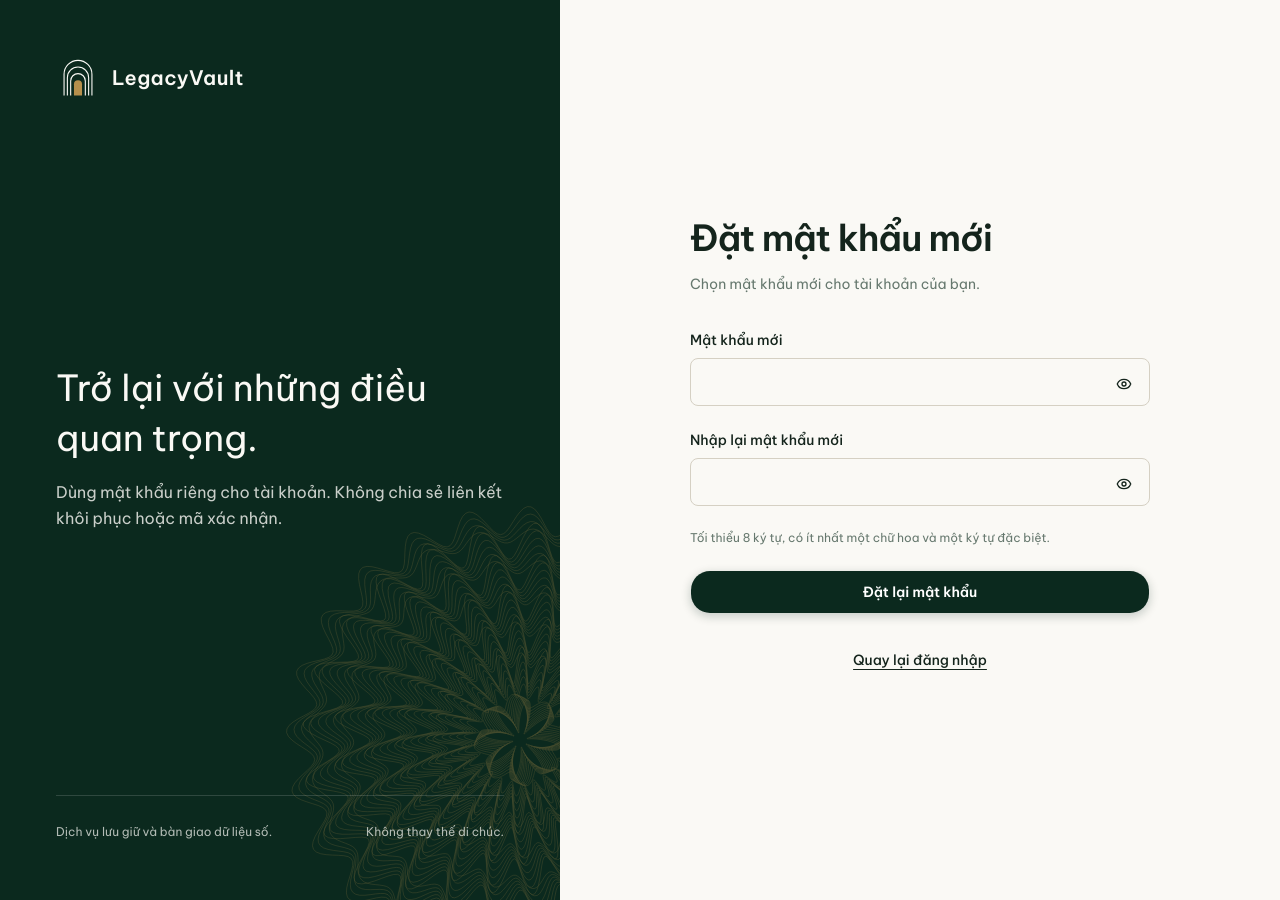
Test: maps reset DTO only on submit, waits for 204, clears session/cache and removes token
Type "Abcdefg!" into the password field labelled "Mật khẩu mới".
click(920, 382); type("Abcdefg!")  # box left=690, top=358, right=1150, bottom=406
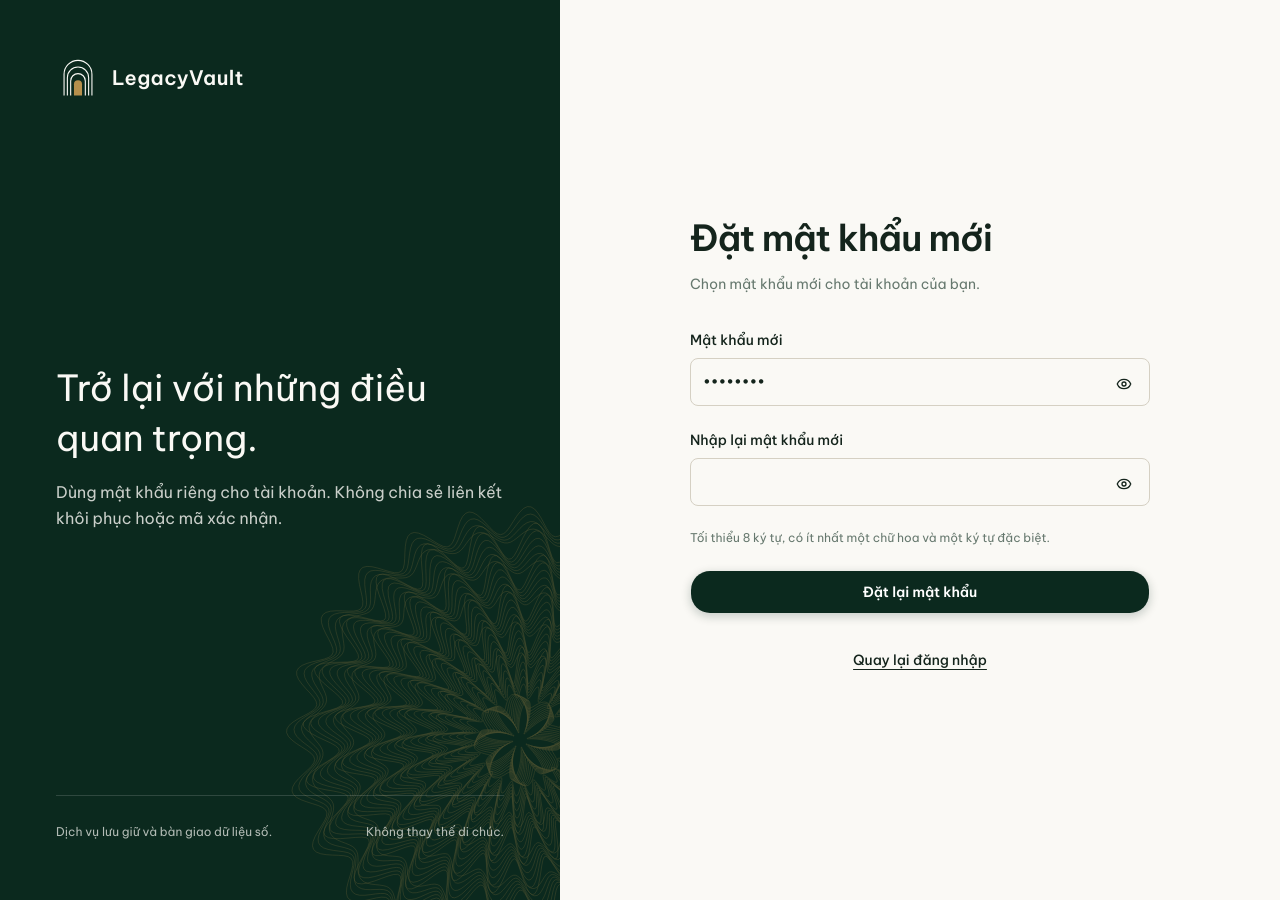
Type "Abcdefg!" into the password field labelled "Nhập lại mật khẩu mới".
click(920, 482); type("Abcdefg!")  # box left=690, top=458, right=1150, bottom=506
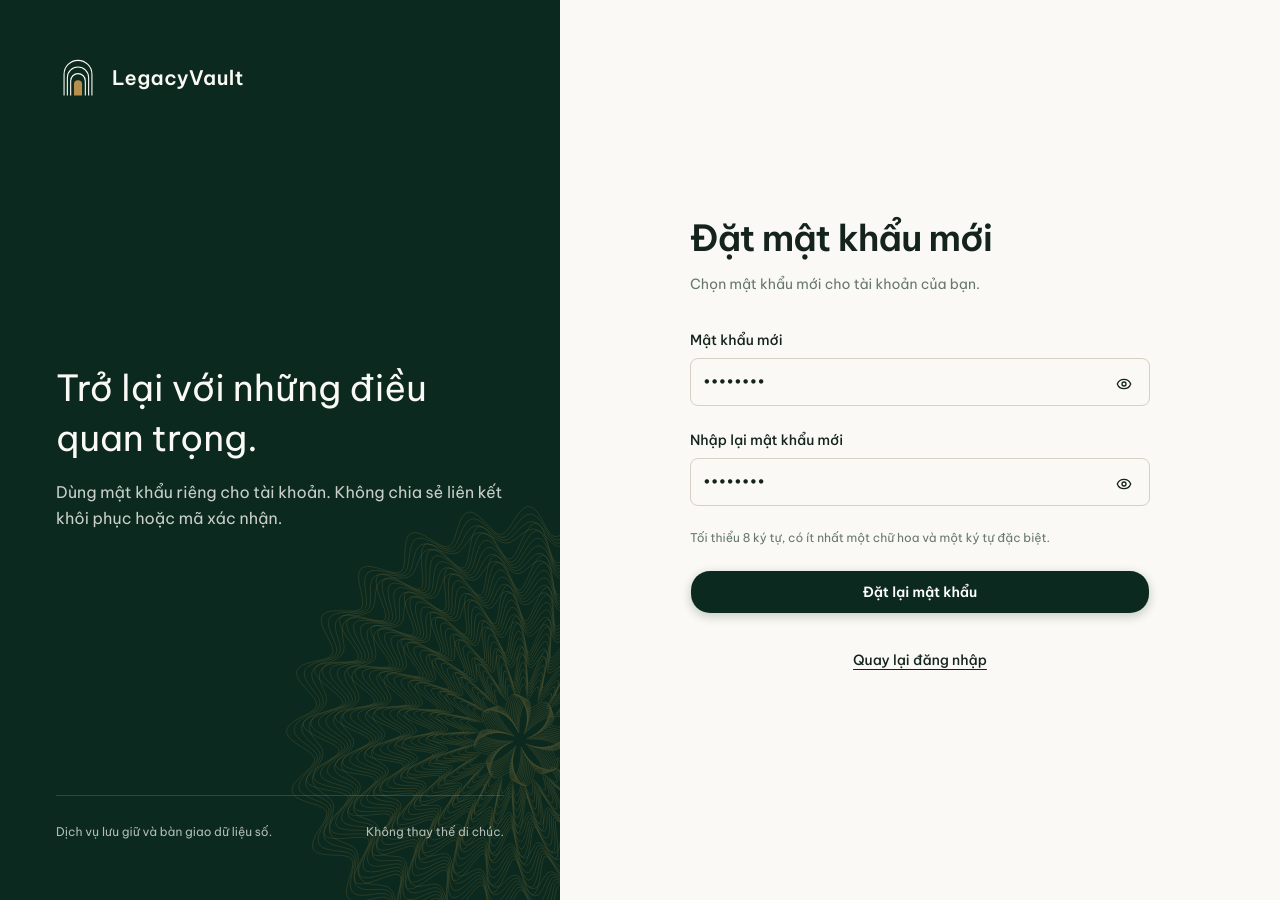
Click the button "Đặt lại mật khẩu".
click(920, 592)  # box left=690, top=570, right=1150, bottom=614
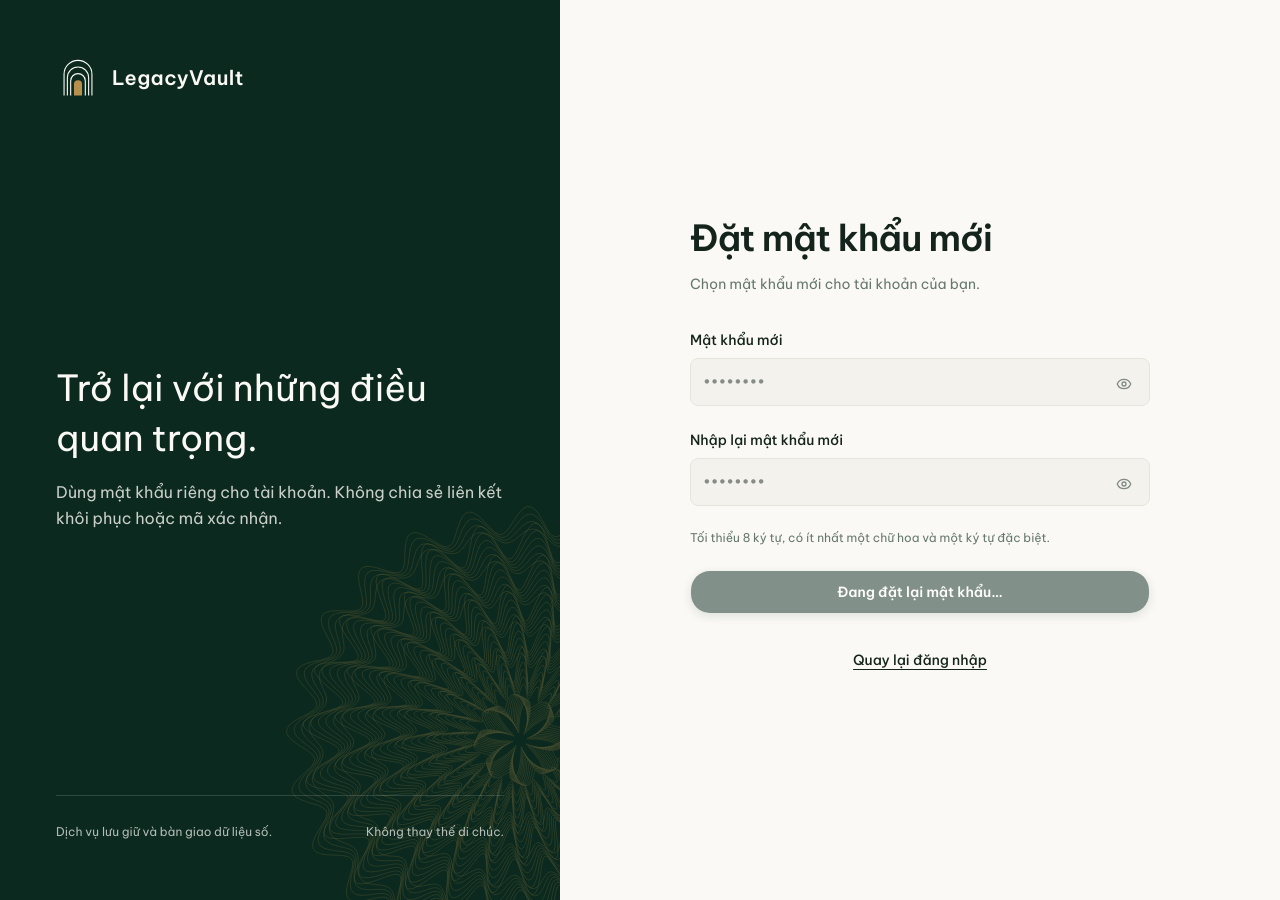
Click the button "Đang đặt lại mật khẩu…".
click(920, 592)  # box left=690, top=570, right=1150, bottom=614
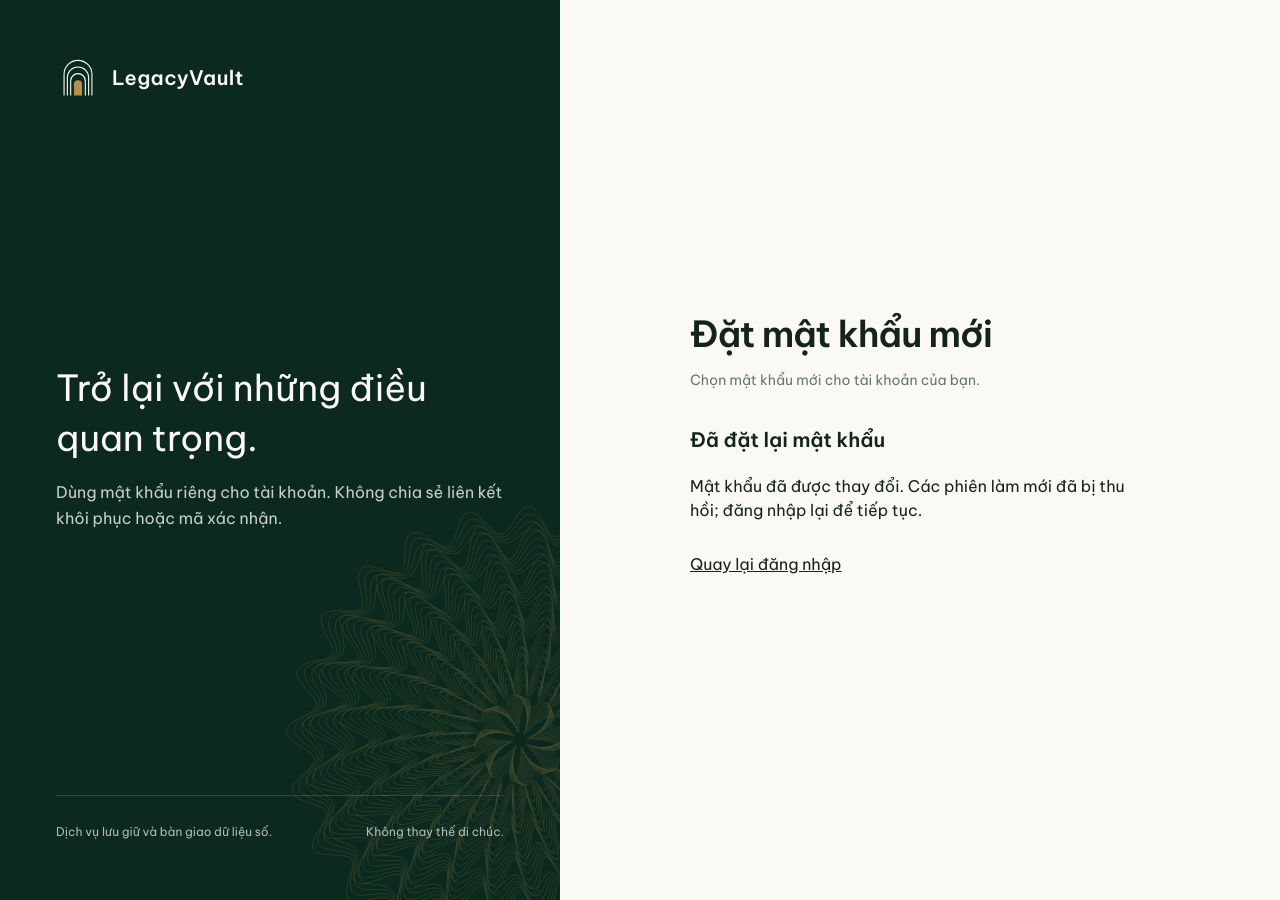
Expected: the heading "Đã đặt lại mật khẩu" is shown, left=690, top=427, right=885, bottom=452
